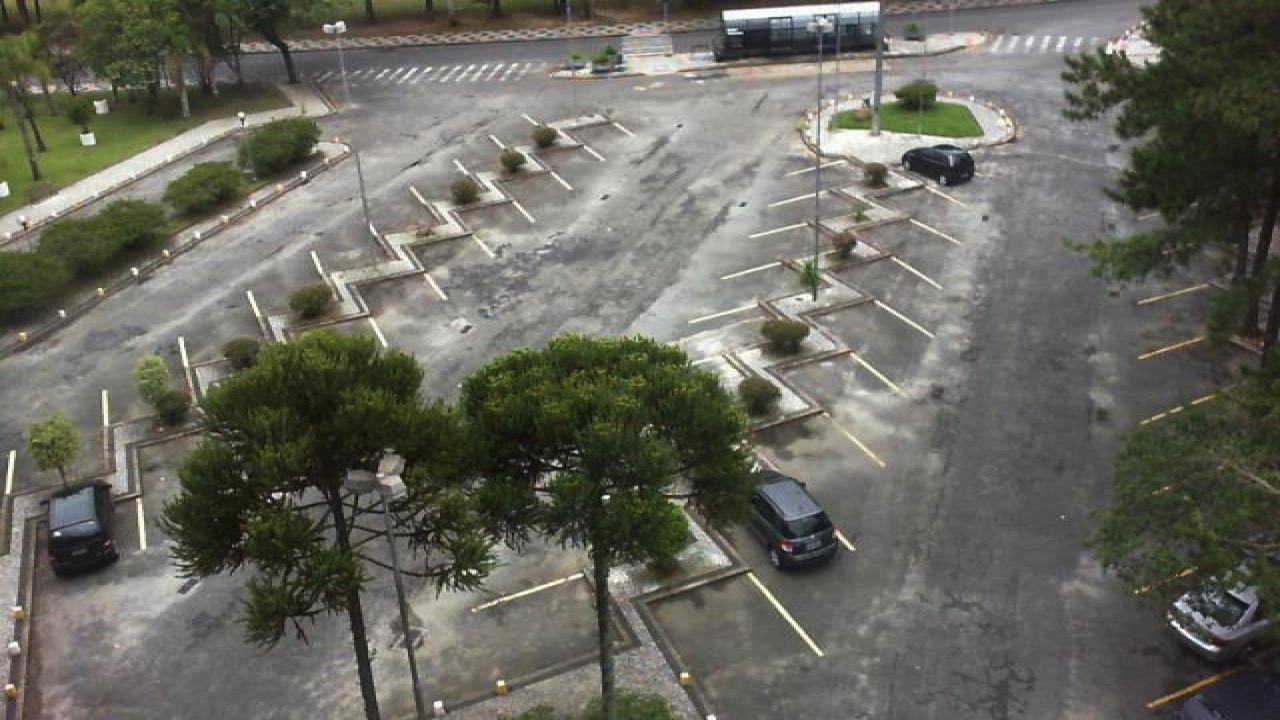Car: (1164, 564, 1280, 662), (748, 470, 840, 573), (42, 479, 118, 577), (898, 142, 976, 185), (1180, 688, 1280, 720)
